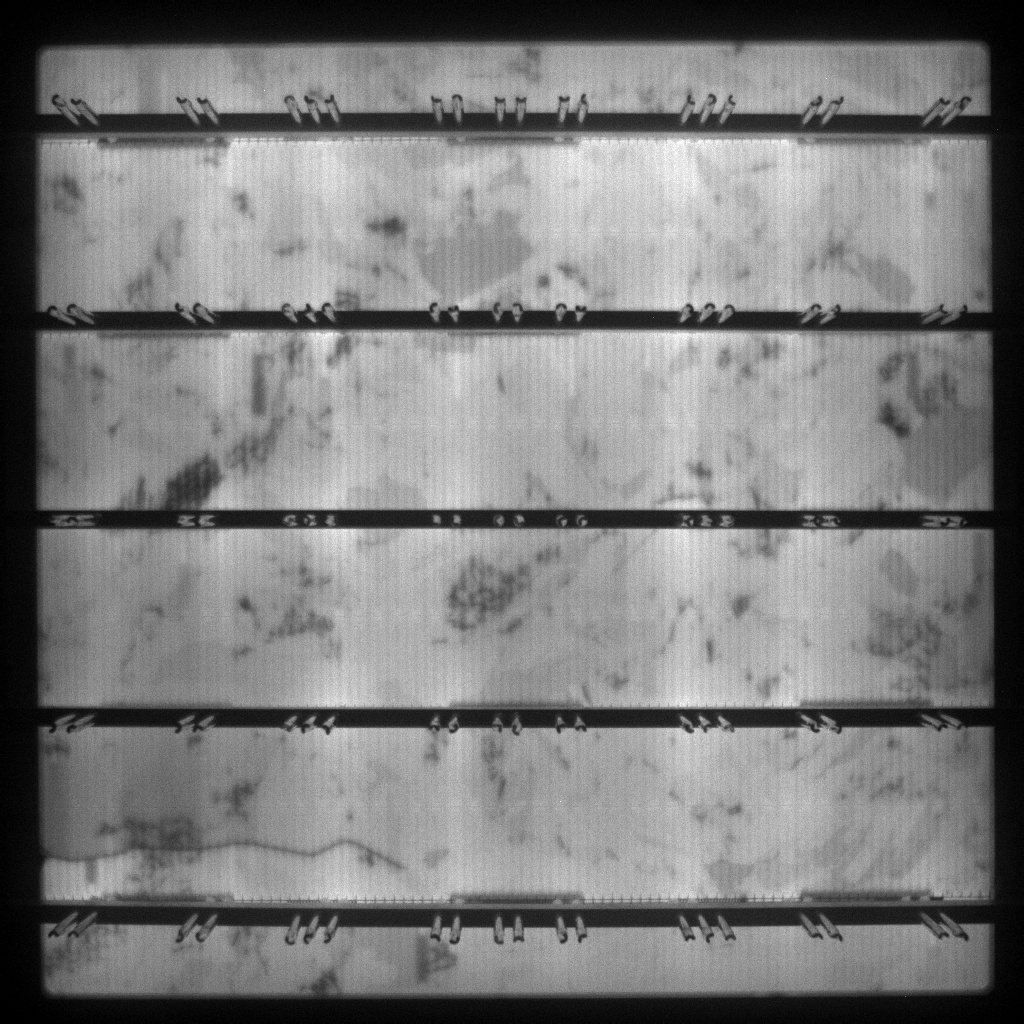crack: (45, 830, 414, 875)
